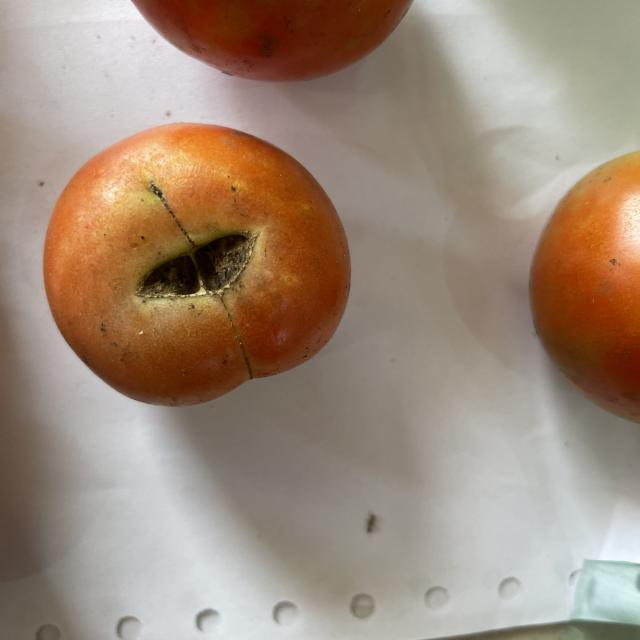fruitworm_bore: (133, 223, 260, 309)
